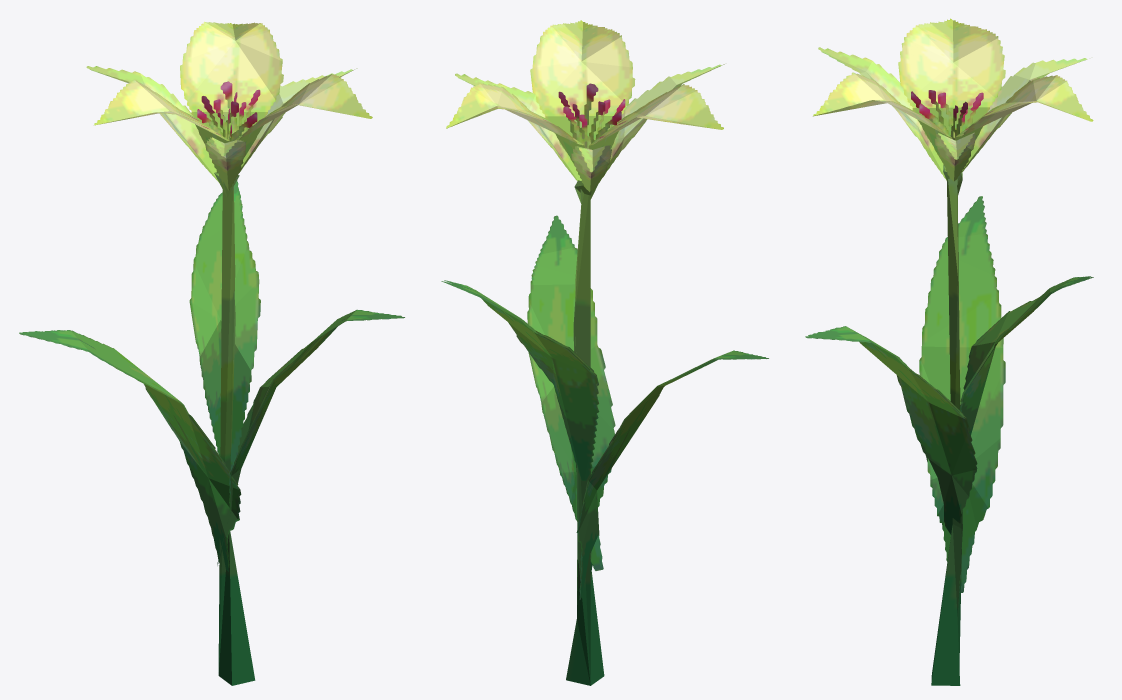
The model's file is gi-Cecilia.glb.
3 views of the same model, side by side, from view 1: azimuth 30°, elevation 25°; view 2: azimuth 150°, elevation 25°; view 3: azimuth 270°, elevation 25° (orthographic).
Visible parts, largest first — view 1: gi-Cecilia; view 2: gi-Cecilia; view 3: gi-Cecilia.
Part boxes in pixels (bbox=[...]): gi-Cecilia: bbox=[19, 21, 404, 685]; gi-Cecilia: bbox=[441, 20, 768, 685]; gi-Cecilia: bbox=[805, 18, 1093, 685].
Size of the model in its own units: 0.425 by 0.7514 by 0.3356.
1 material, 1 textured.
